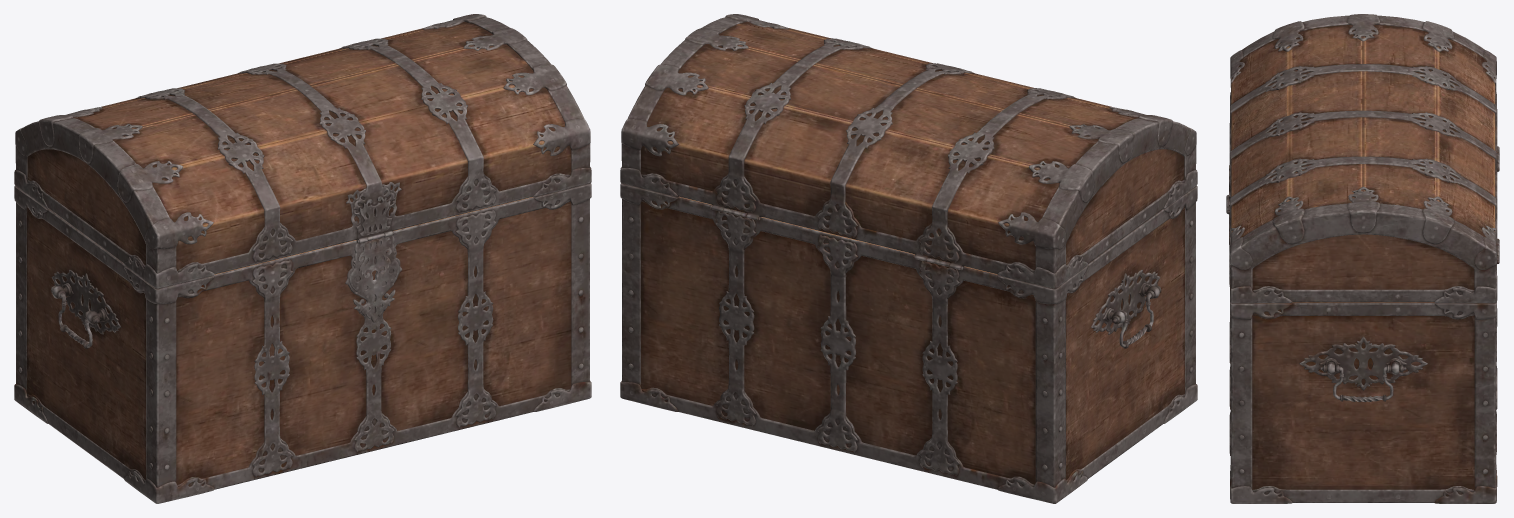
File: chest.glb
3 views of the same model, side by side, from view 1: azimuth 30°, elevation 25°; view 2: azimuth 150°, elevation 25°; view 3: azimuth 270°, elevation 25° (orthographic). The views are drawn at different scales.
Visible parts, largest first — view 1: treasure_chest_bottom, treasure_chest_lid, treasure_chest_lock; view 2: treasure_chest_bottom, treasure_chest_lid; view 3: treasure_chest_lid, treasure_chest_bottom, treasure_chest_handle_right.
Boxes of the visible parts, left/top/right/bottom form: treasure_chest_bottom: left=14, top=183, right=591, bottom=503; treasure_chest_lid: left=14, top=14, right=591, bottom=288; treasure_chest_lock: left=349, top=233, right=399, bottom=322; treasure_chest_bottom: left=620, top=183, right=1197, bottom=503; treasure_chest_lid: left=620, top=14, right=1197, bottom=288; treasure_chest_lid: left=1226, top=14, right=1499, bottom=303; treasure_chest_bottom: left=1229, top=152, right=1499, bottom=503; treasure_chest_handle_right: left=1320, top=365, right=1406, bottom=402.
Size of the model in its own units: 0.959 by 0.6189 by 0.5229.
1 material, 1 textured.
